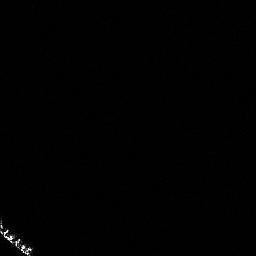ship: (1, 217, 37, 256)
